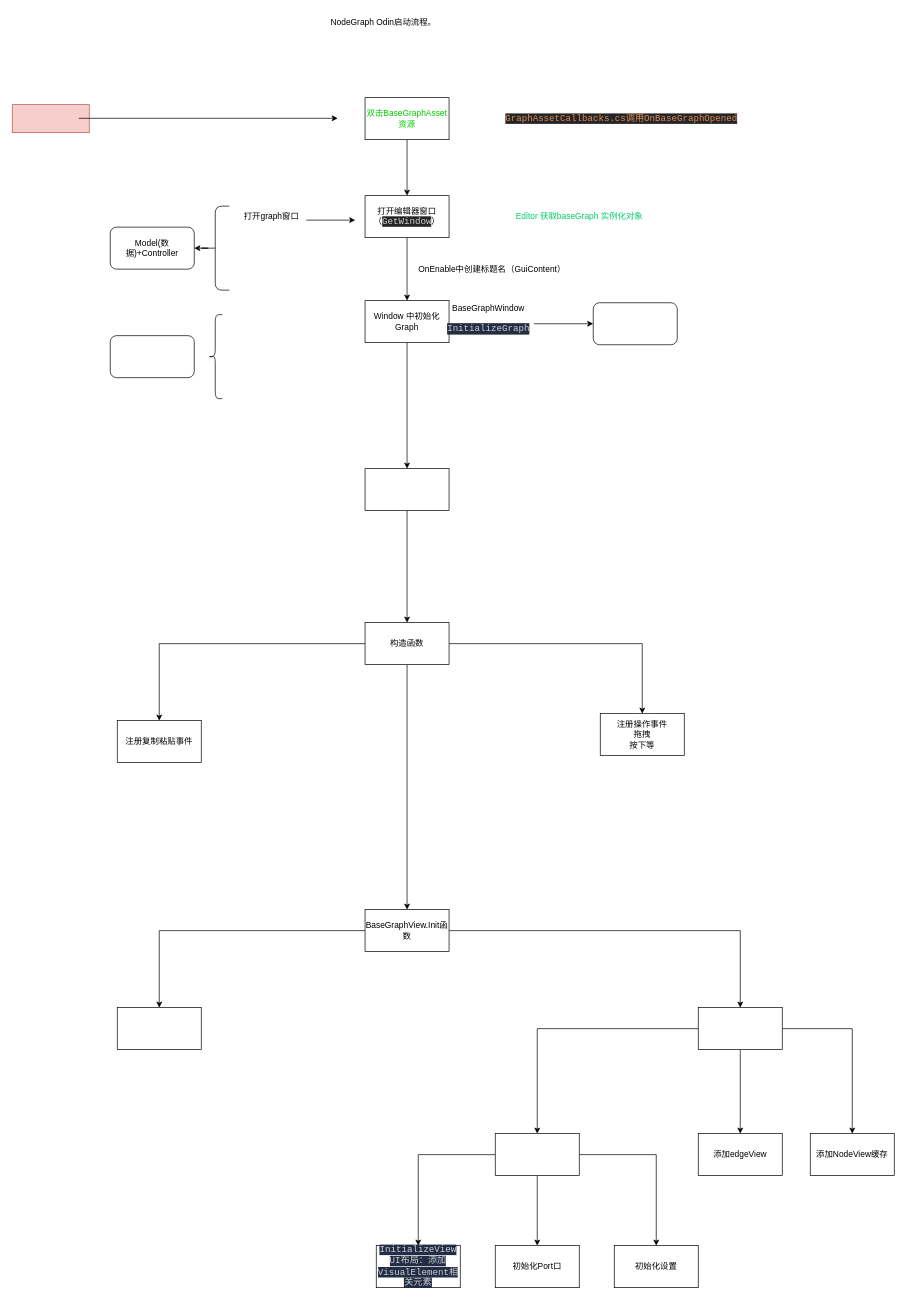
Image size: 907x1301. Some labels were removed from this diagram. Here are the shapes that lost their labels. From the top down, the box of each, then its label:
(12, 104, 89, 133): MVC模式
(593, 302, 677, 345): 清理旧graph 新建Graph
(110, 335, 194, 378): View 层:Window+BaseGraphVIew
(364, 468, 449, 511): BaseGraphVIew初始化
(117, 1007, 201, 1050): 清除旧的元素
(698, 1007, 782, 1050): 新建新的元素
(495, 1133, 579, 1176): 添加NodeView
